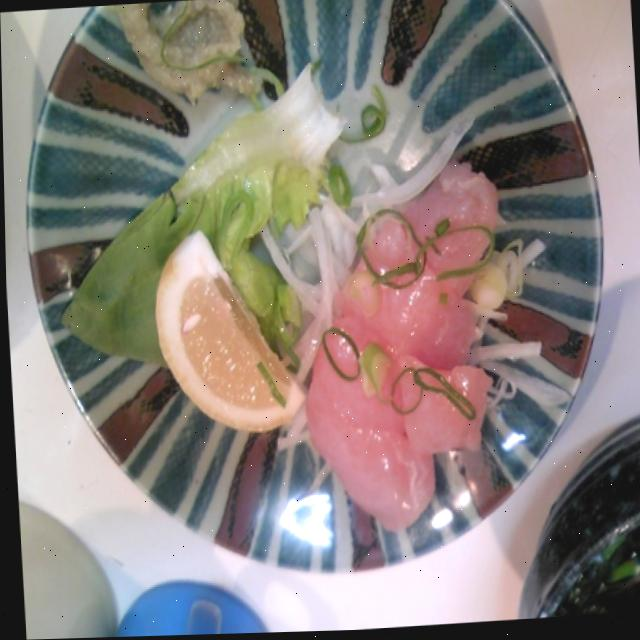熟制海鲜: (63, 0, 620, 599)
